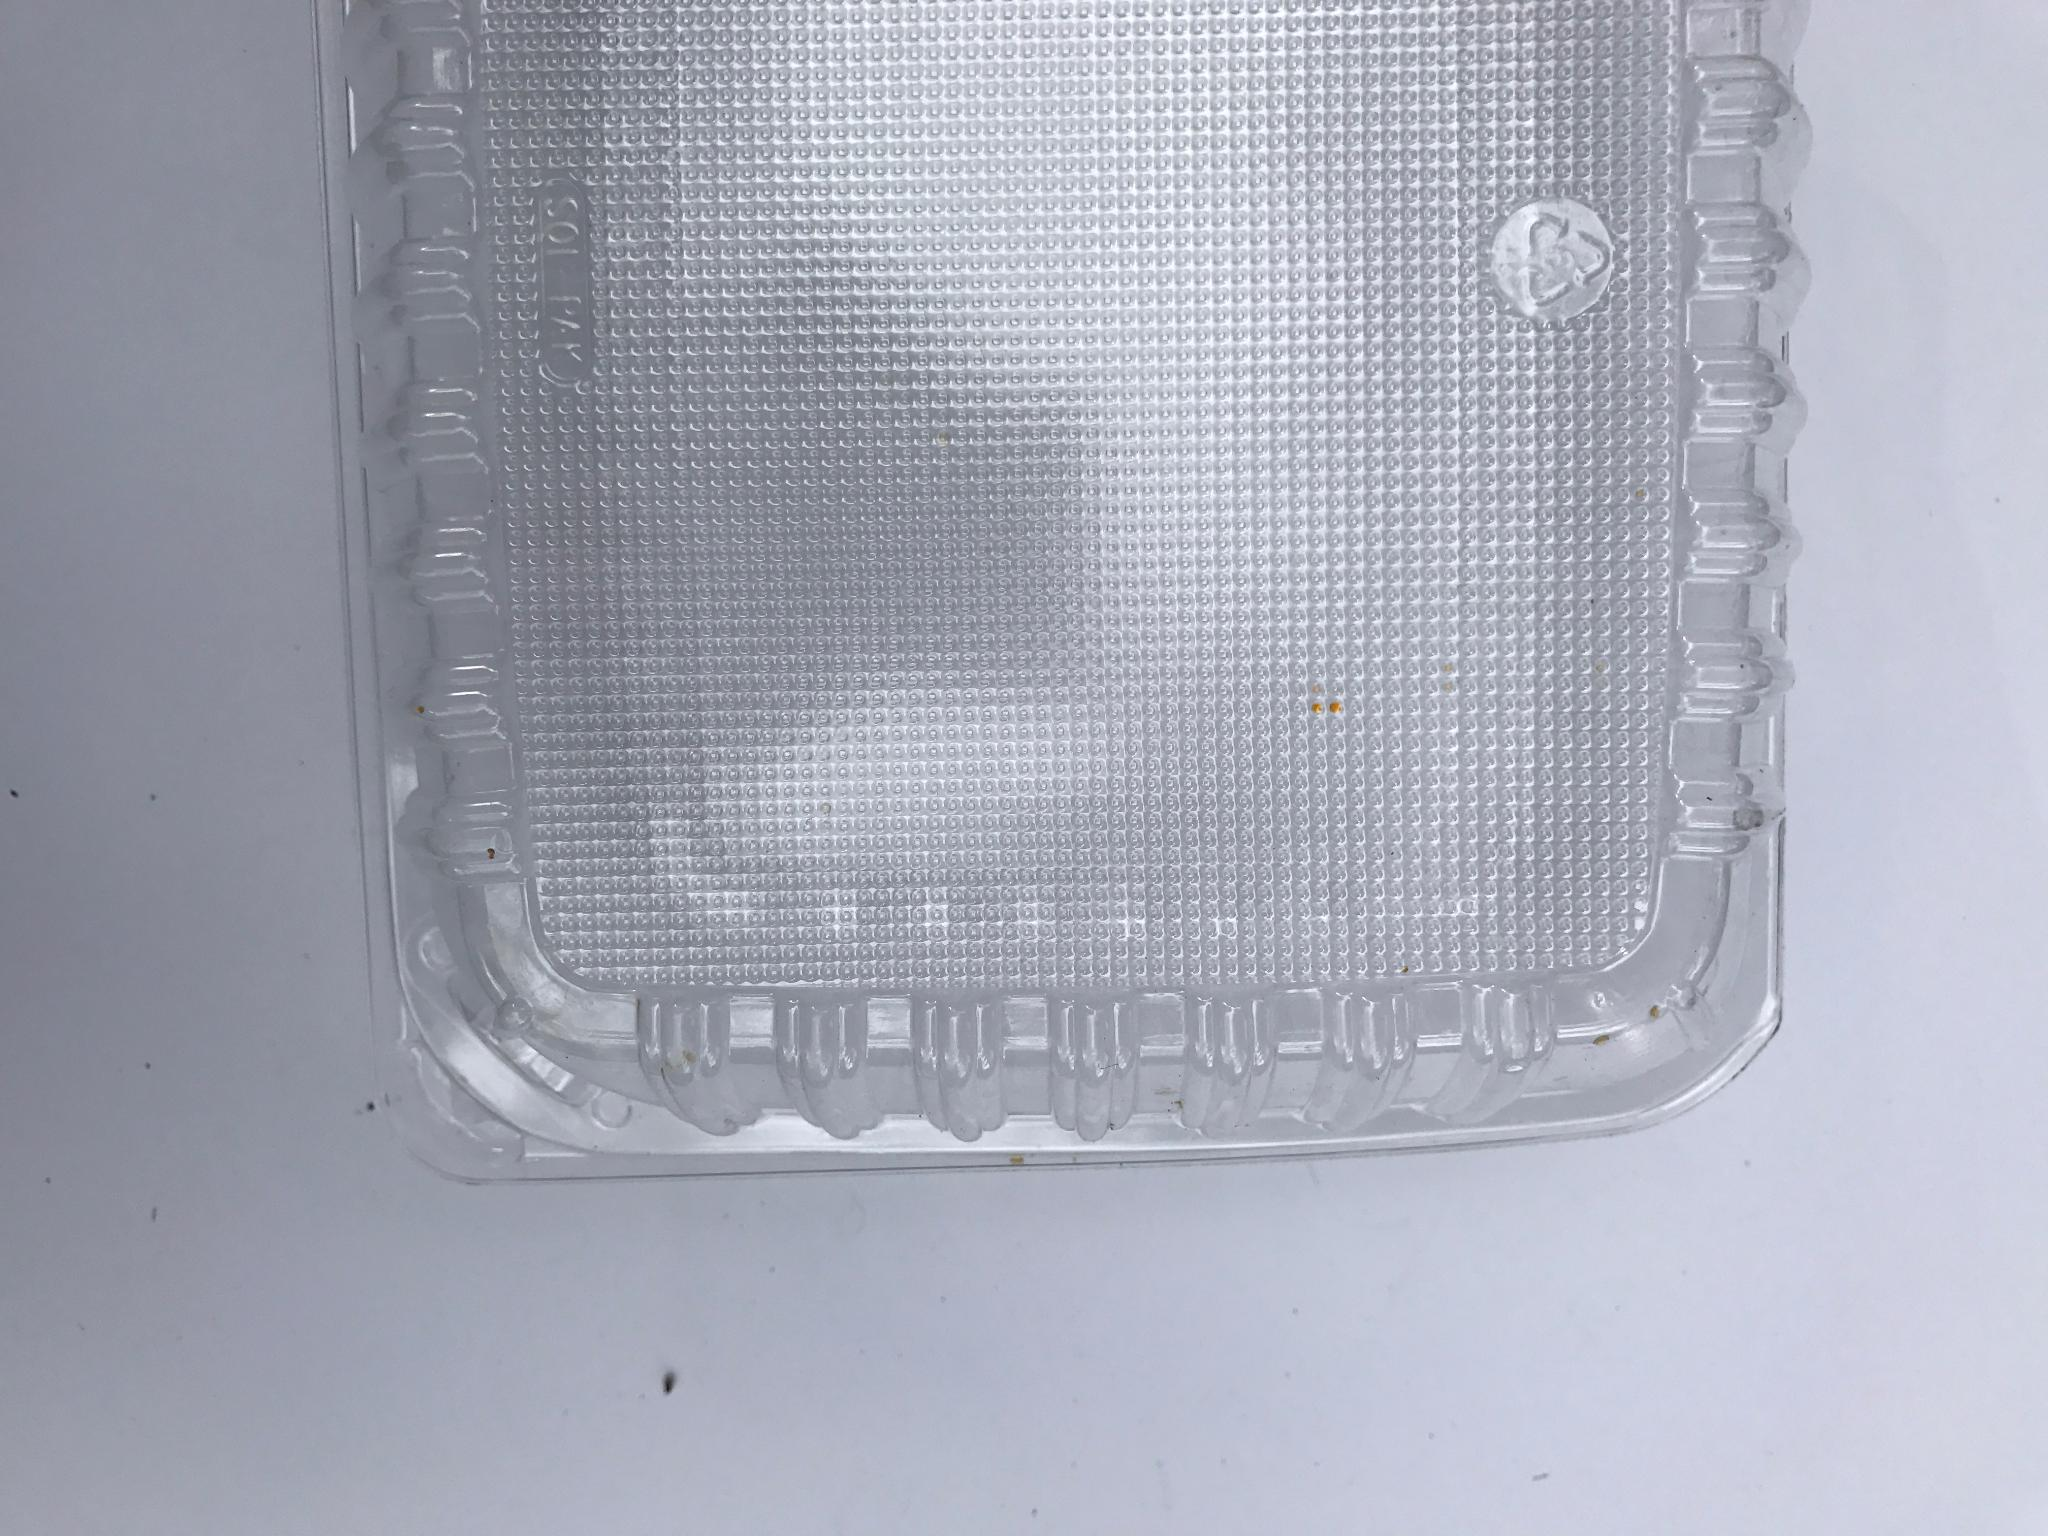Plastic: (311, 0, 1827, 1212)
